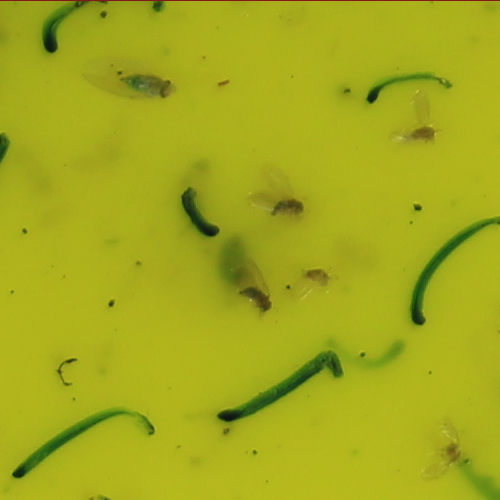psylla: (116, 67, 179, 100), (238, 283, 274, 316), (296, 259, 336, 288), (402, 119, 443, 147), (267, 199, 307, 216)
